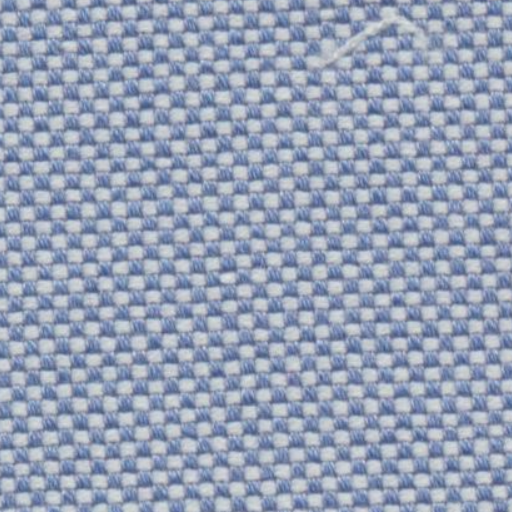DuanSha: (300, 12, 432, 82)
